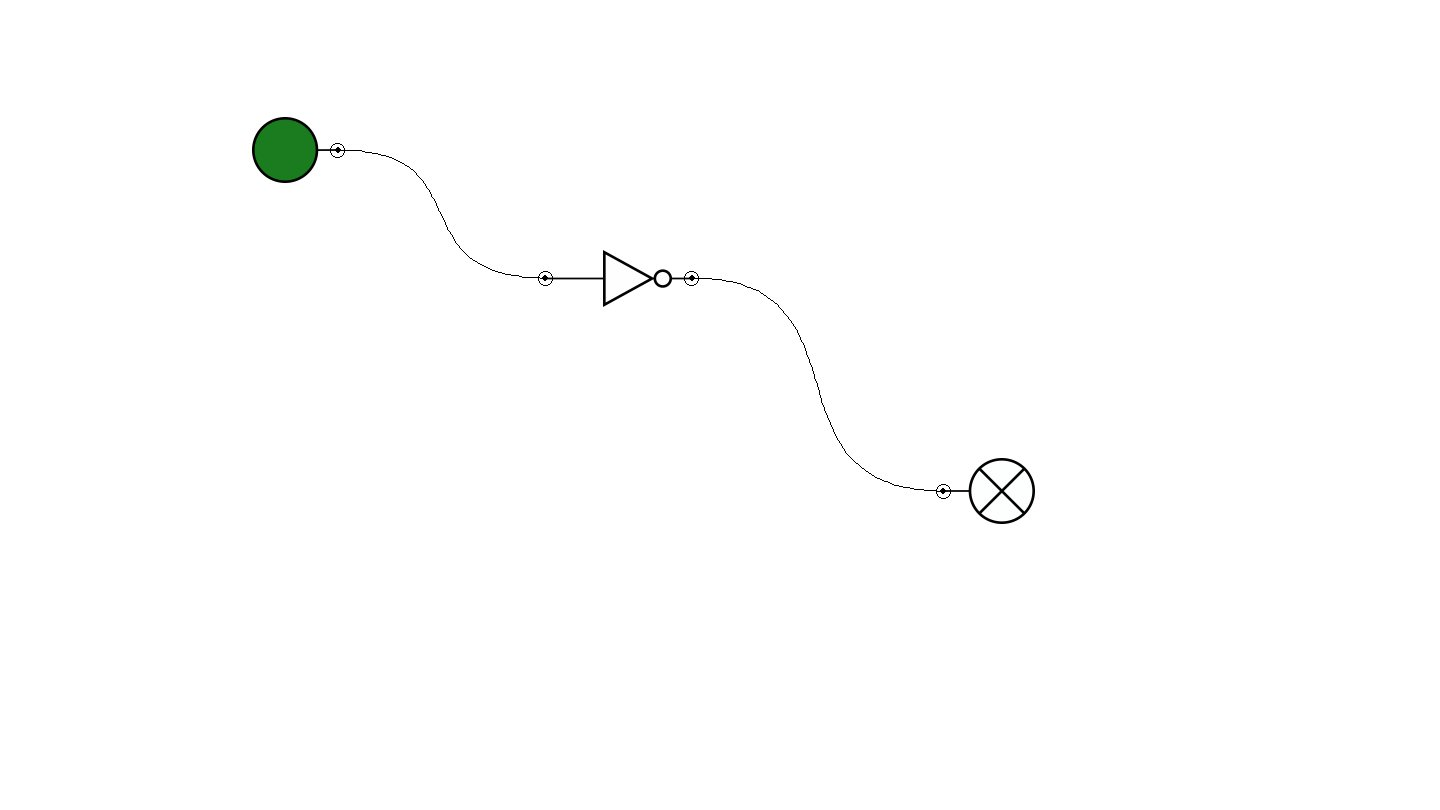bulb: (936, 458, 1035, 524)
not: (538, 250, 699, 307)
switch_True: (252, 117, 345, 183)
